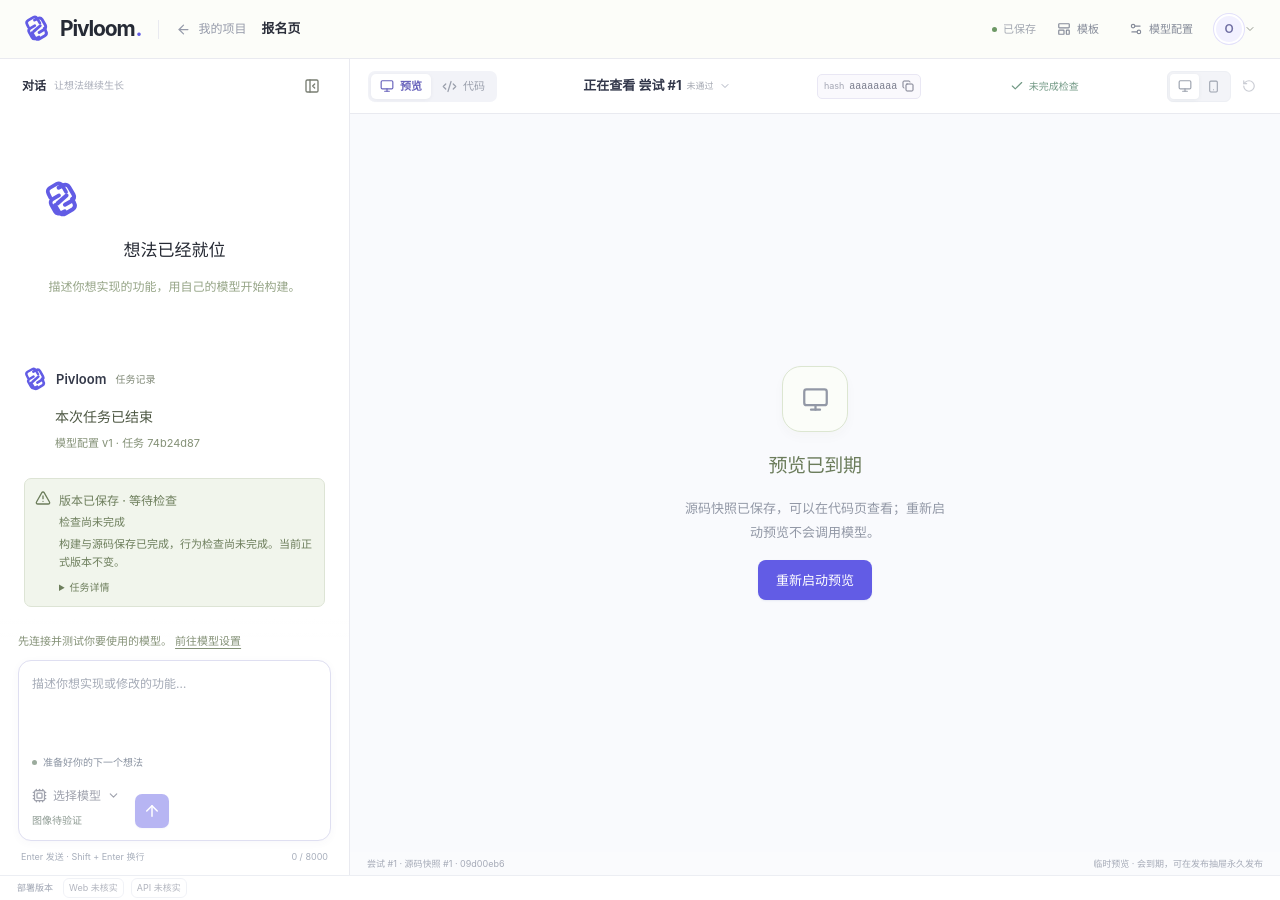
Test: does not label an unchecked candidate as a passed check
The width and height of the screenshot is (1280, 900).
Click the button with class "a-toolbar-check" at (1044, 86), box x1=1004 y1=74 x2=1085 y2=98
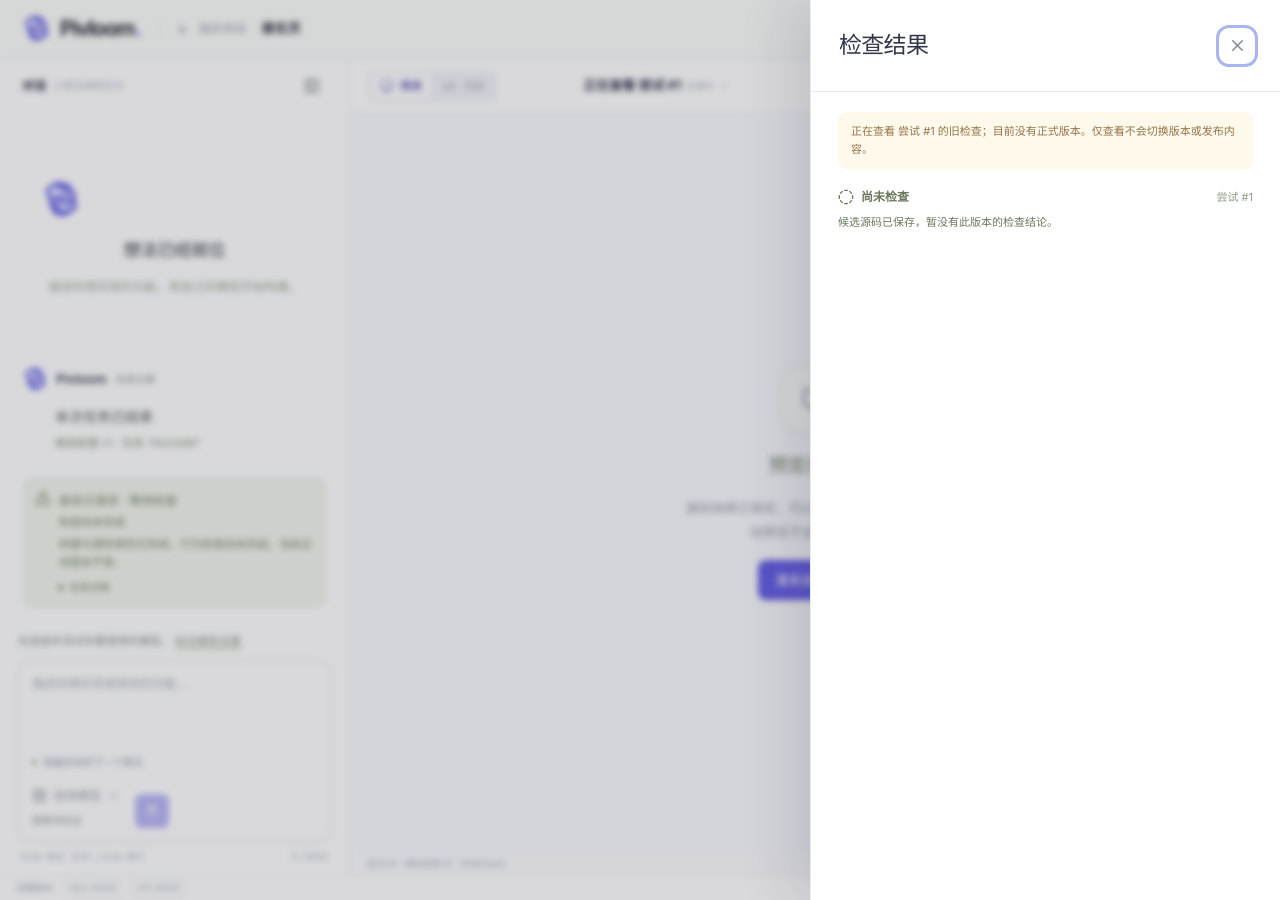
Result: the element named "版本检查结果" shows "尚未检查" at x1=861 y1=189 x2=909 y2=204
